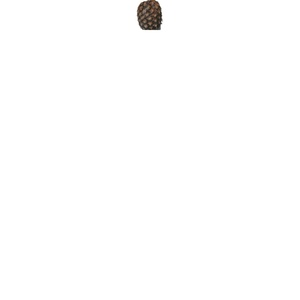abacaxi: (131, 1, 167, 31)
